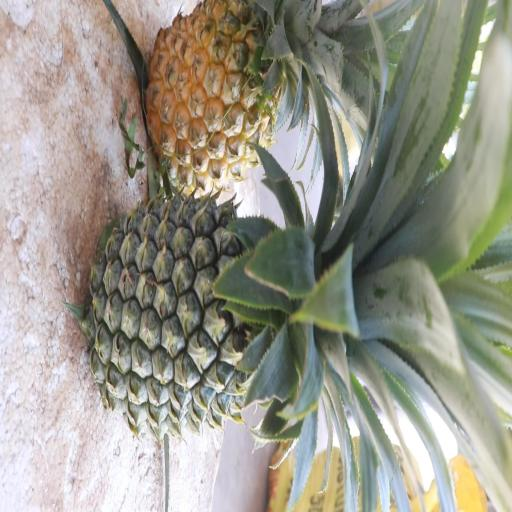Pineapple - v8 v1: (146, 0, 391, 196)
